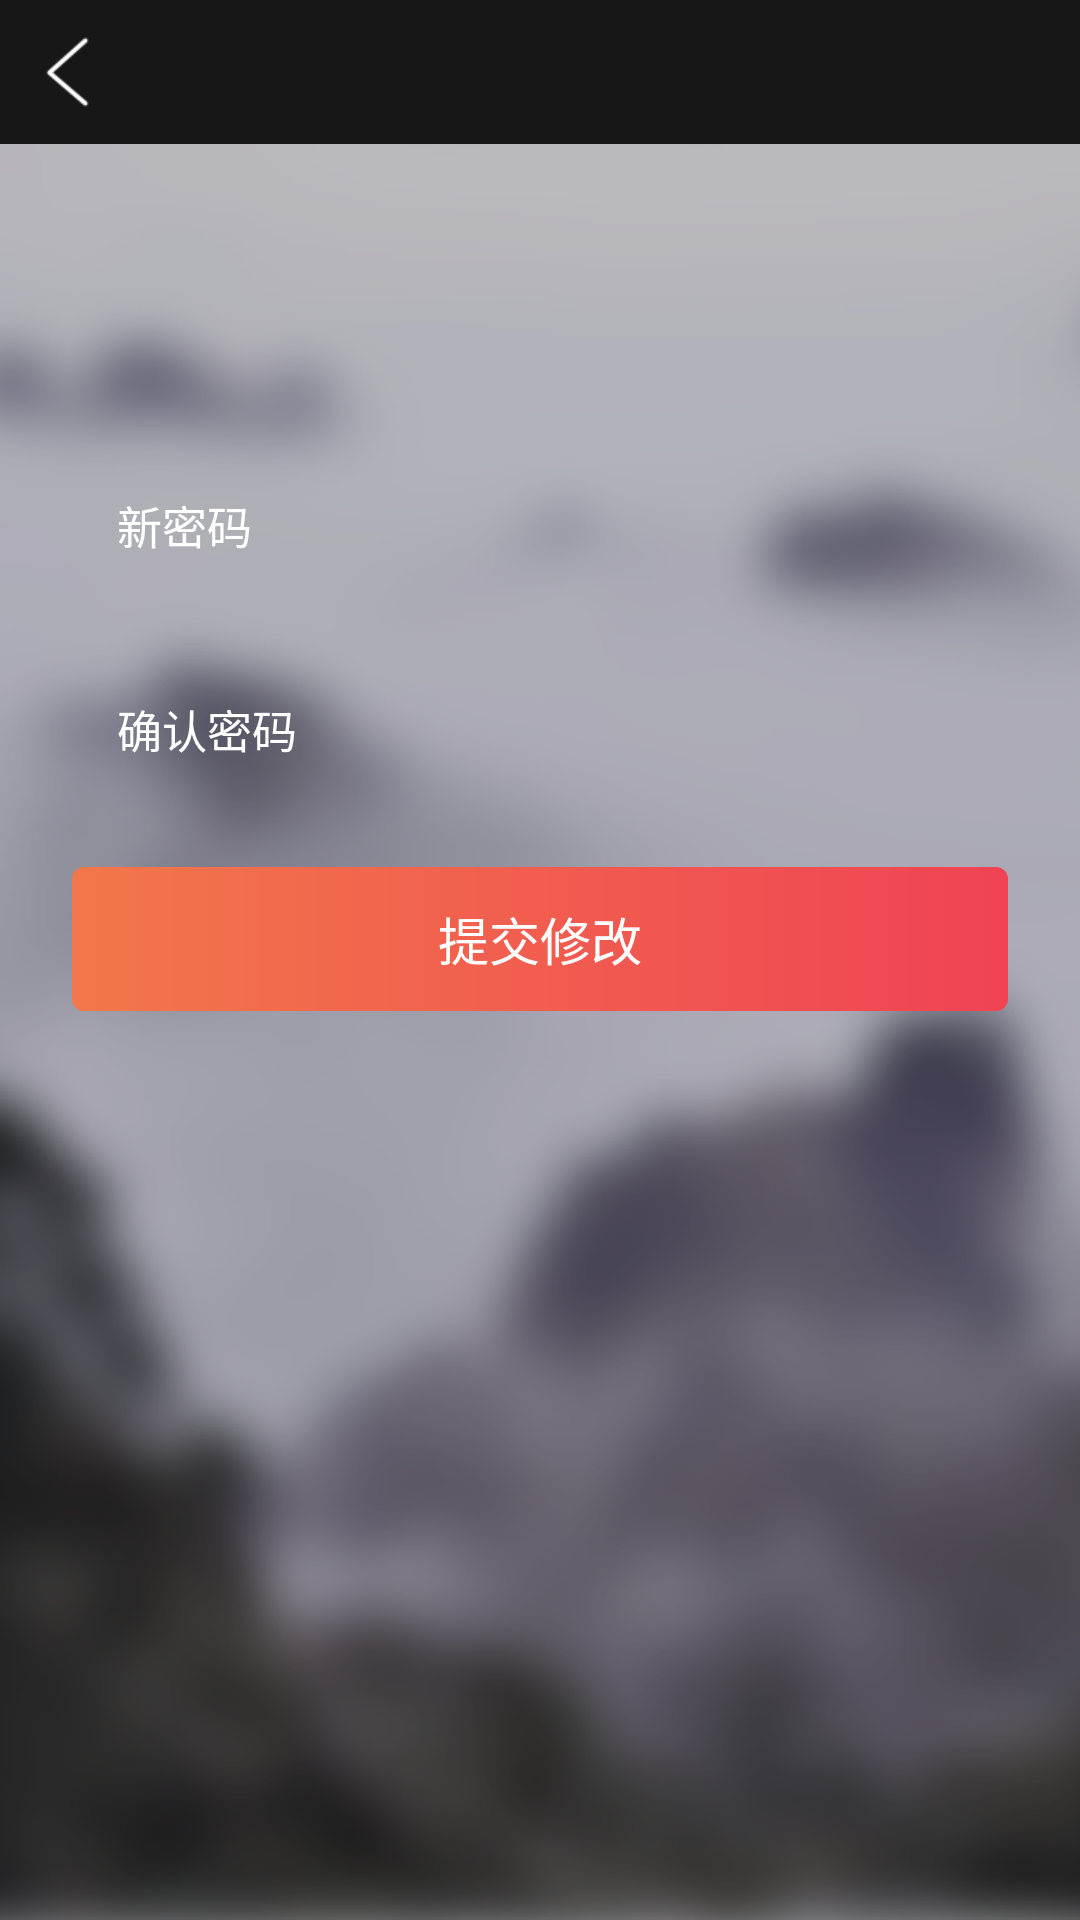

Icon click points for this 1080*1920 phone screenshot, format point (x, y):
titlebar back: point (67, 72)
